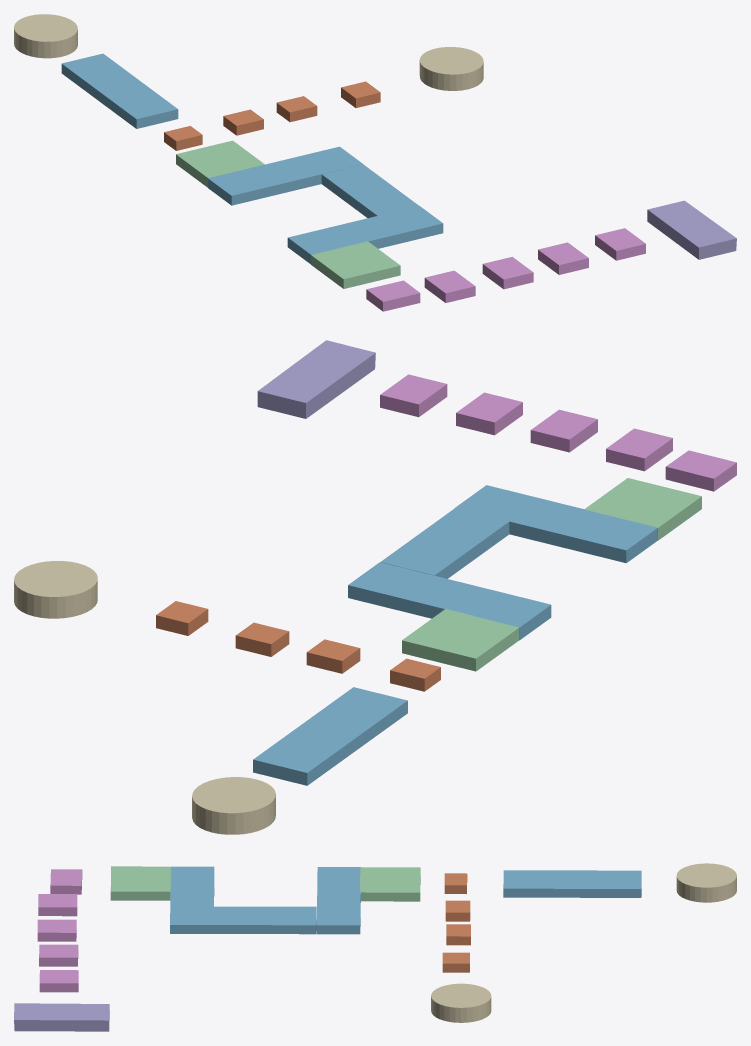
3 views of the same model, one above another, from view 1: azimuth 30°, elevation 25°; view 2: azimuth 150°, elevation 25°; view 3: azimuth 270°, elevation 25° (orthographic). The views are drawn at different scales.
Visible parts, largest first — view 1: path4, path3, path1, start, path2, cubestart, key, goal, cubeend, platform5, platform3, platform4 (+6 smaller); view 2: path4, path1, path3, start, path2, cubeend, key, goal, cubestart, platform5, platform1, platform3 (+6 smaller); view 3: path4, path1, path3, path2, start, cubestart, cubeend, goal, key, platform3, platform1, platform2 (+6 smaller).
Part boxes in pixels (<box>): path4: <box>61,53,178,128</box>; path3: <box>208,146,363,205</box>; path1: <box>287,206,443,264</box>; start: <box>647,200,736,259</box>; path2: <box>321,164,418,217</box>; cubestart: <box>311,241,400,288</box>; key: <box>419,47,483,90</box>; goal: <box>14,14,77,58</box>; cubeend: <box>176,140,264,187</box>; platform5: <box>366,280,420,311</box>; platform3: <box>482,256,533,289</box>; platform4: <box>424,270,475,302</box>; path4: <box>253,687,407,785</box>; path1: <box>455,485,657,563</box>; path3: <box>348,562,551,640</box>; start: <box>257,340,375,418</box>; path2: <box>380,508,509,578</box>; cubeend: <box>402,609,519,671</box>; key: <box>14,561,97,618</box>; goal: <box>192,777,275,834</box>; cubestart: <box>584,478,701,540</box>; platform5: <box>665,450,736,491</box>; platform1: <box>380,374,447,417</box>; platform3: <box>530,409,597,452</box>; path4: <box>503,870,641,897</box>; path1: <box>170,866,214,933</box>; path3: <box>316,867,360,934</box>; path2: <box>212,906,316,934</box>; start: <box>14,1003,109,1031</box>; cubestart: <box>110,866,171,900</box>; cubeend: <box>360,867,420,901</box>; goal: <box>676,863,736,902</box>; key: <box>431,983,491,1022</box>; platform3: <box>37,919,76,941</box>; platform1: <box>39,970,78,992</box>; platform2: <box>39,944,78,966</box>.
Size of the model in its own units: 18.34 by 1.03 by 37.13.
